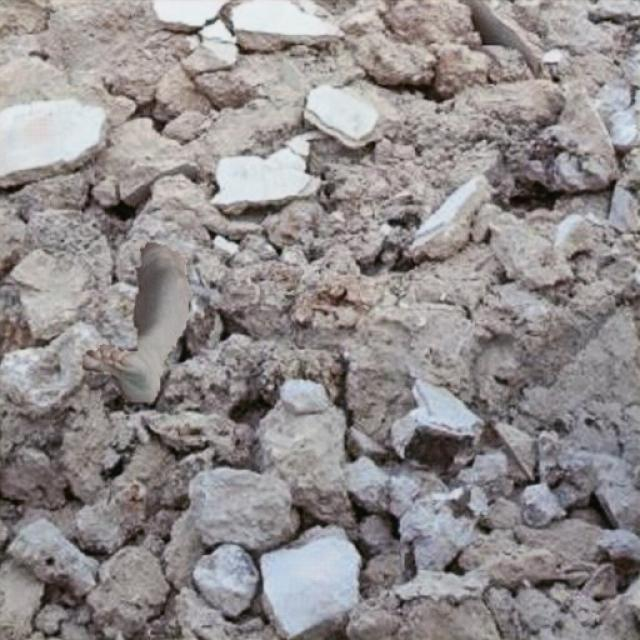Person in Rubble: (82, 243, 188, 402)
